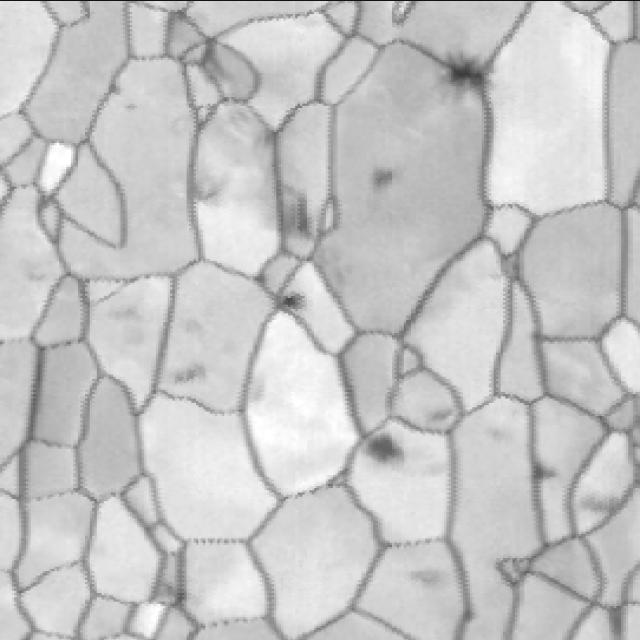good_void: (441, 53, 498, 105), (363, 423, 411, 473), (284, 179, 322, 239), (170, 353, 221, 389), (195, 167, 232, 212), (578, 488, 625, 522), (402, 560, 449, 592), (156, 578, 189, 607), (279, 283, 308, 312), (100, 74, 130, 101), (372, 167, 401, 192), (423, 400, 454, 423), (125, 96, 146, 117), (531, 463, 553, 483)
